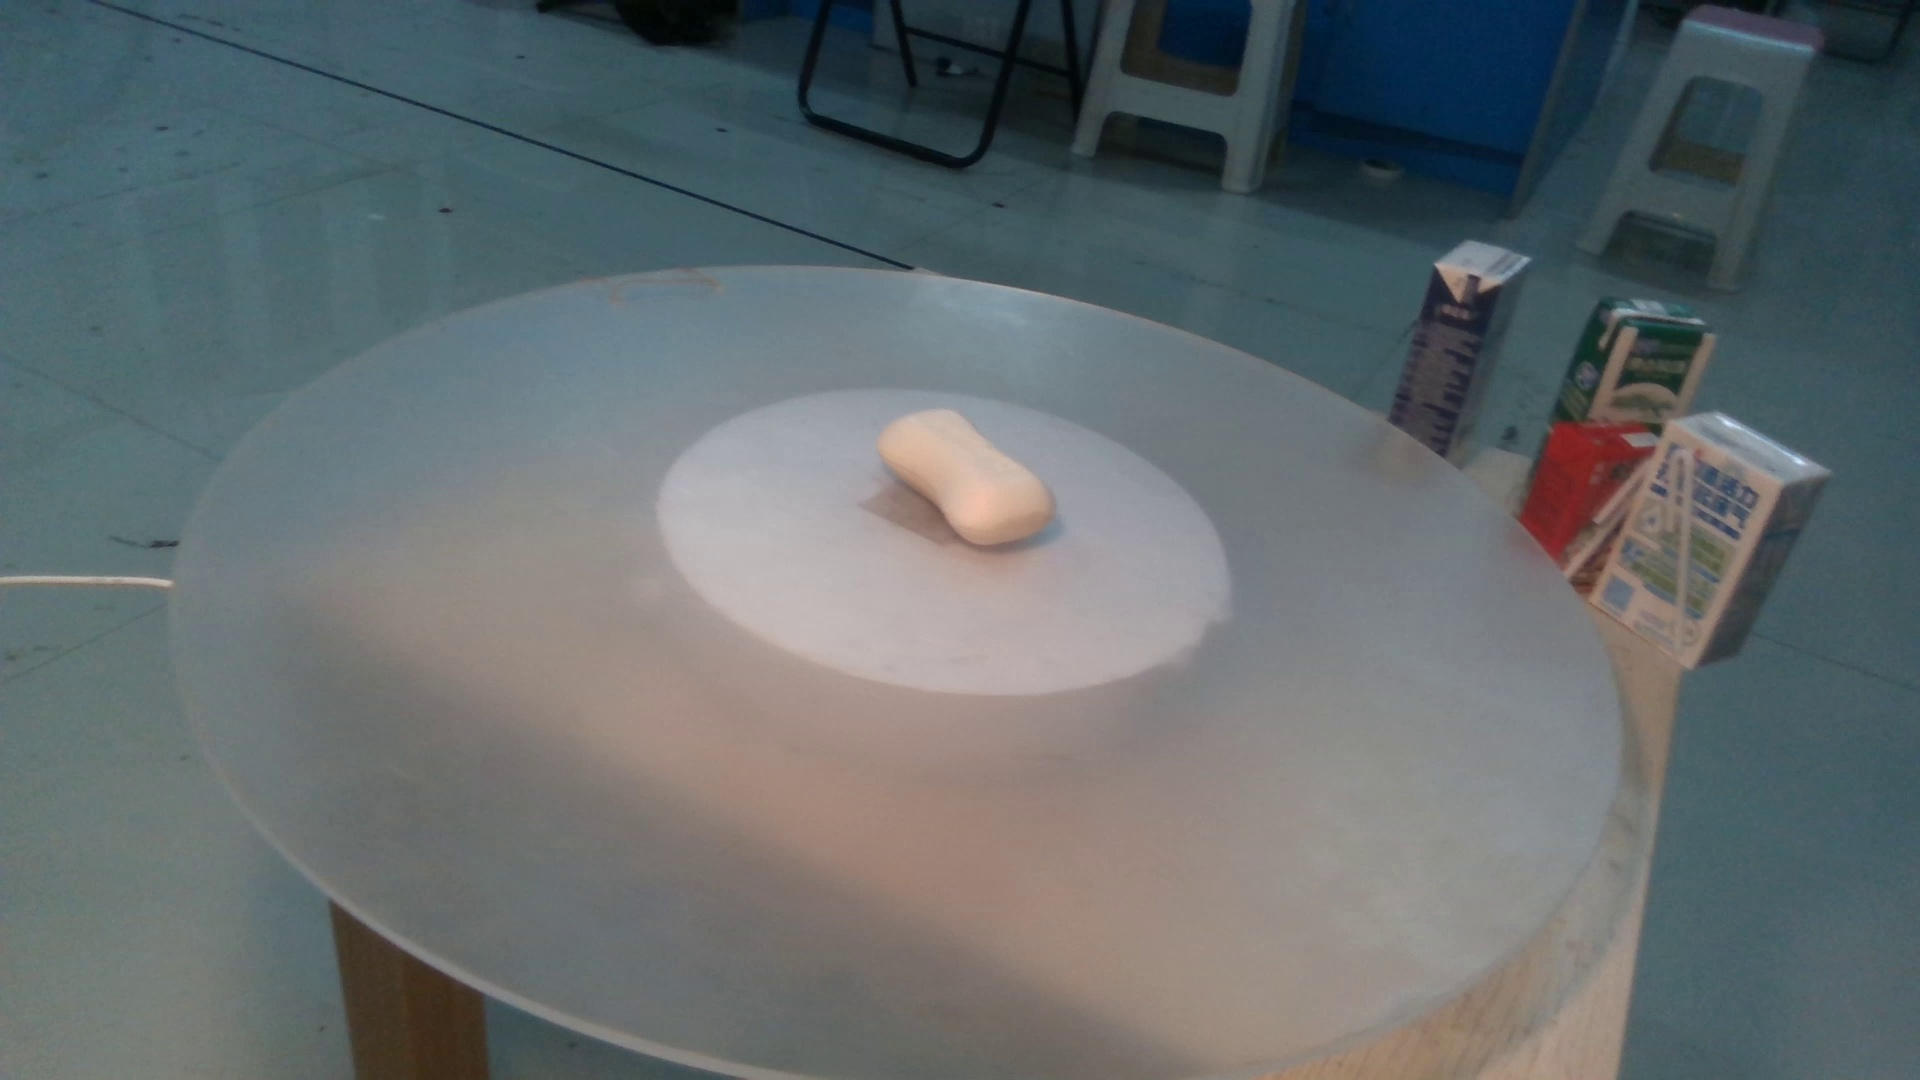CA003_1: (848, 398, 1109, 576)
